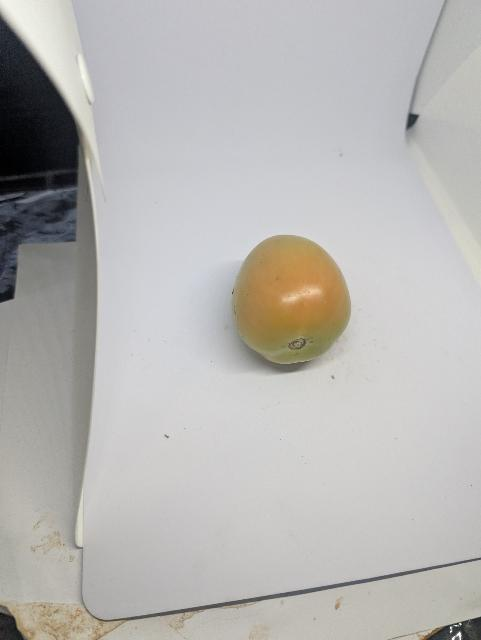breaker: (227, 233, 361, 370)
